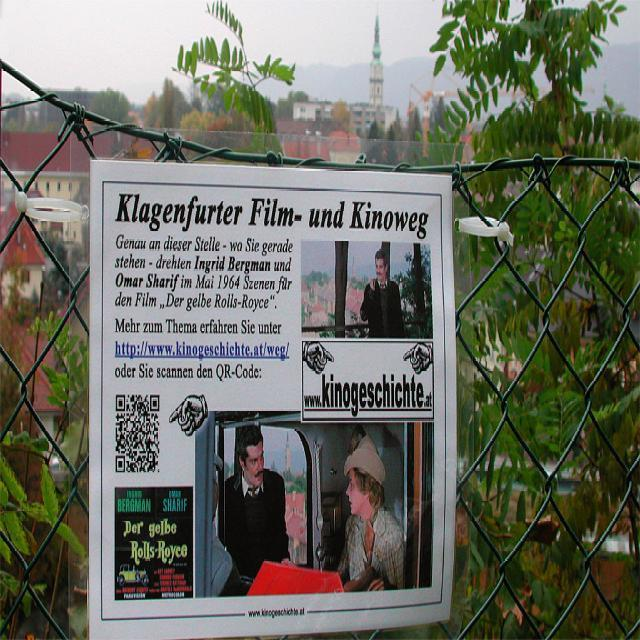qrcode: (117, 396, 160, 472)
